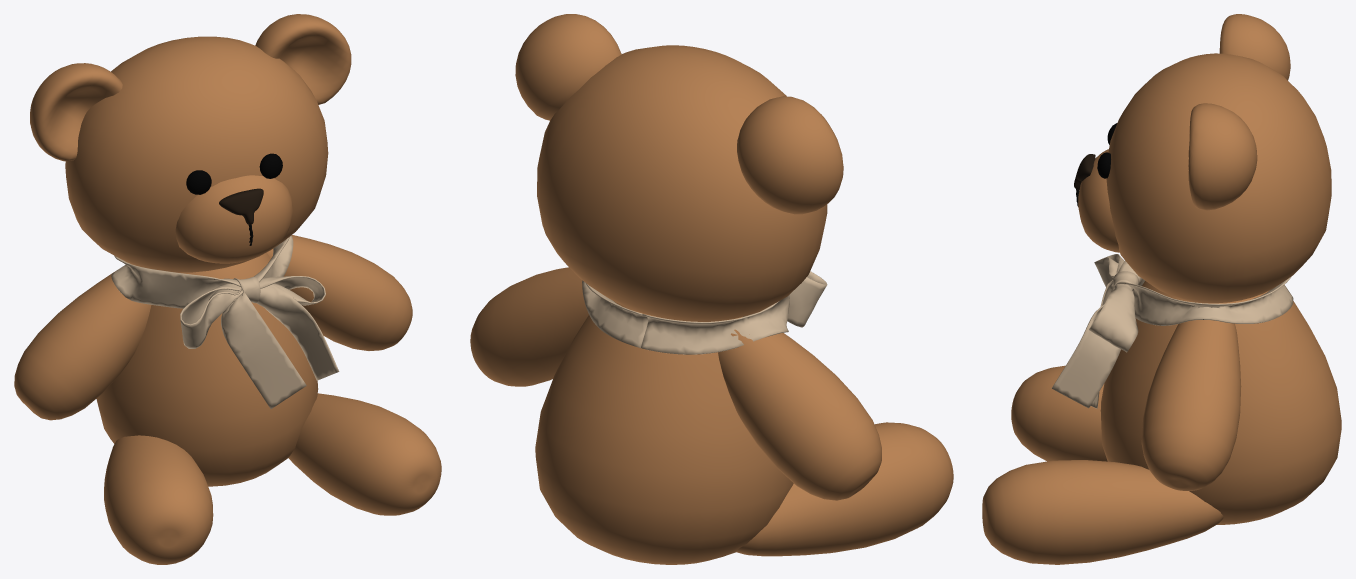
The picture shows the model from 3 angles, left to right: view 1: azimuth 30°, elevation 25°; view 2: azimuth 150°, elevation 25°; view 3: azimuth 270°, elevation 25°; orthographic projection. The views are drawn at different scales.
Parts seen in each view (by area): view 1: bear.002-fabric_white, bow_bear, bear.002-eyes, bear.002-Nose.002; view 2: bear.002-fabric_white, bow_bear; view 3: bear.002-fabric_white, bow_bear.
Boxes of the visible parts, bbox=[...] form: bear.002-fabric_white: bbox=[14, 14, 441, 564]; bow_bear: bbox=[111, 235, 339, 408]; bear.002-eyes: bbox=[186, 153, 282, 194]; bear.002-Nose.002: bbox=[219, 188, 263, 224]; bear.002-fabric_white: bbox=[470, 14, 953, 564]; bow_bear: bbox=[582, 271, 827, 354]; bear.002-fabric_white: bbox=[982, 14, 1341, 564]; bow_bear: bbox=[1051, 254, 1293, 408].
Size of the model in its own units: 313 by 362 by 258.
